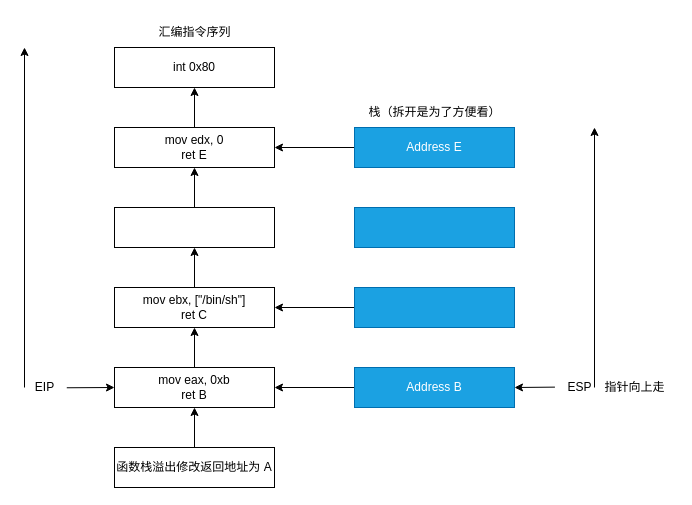
The diagram is 692 pixels wide and 505 high, and some of its shapes have lost their labels. The shapes that lost their labels are listed below. From the top down, each one's box as (x1, y1, x2, y2) in pixels, then its label:
(114, 206, 274, 248): mov ecx, 0 ret D
(354, 206, 514, 248): Address D
(354, 286, 514, 328): Address C
